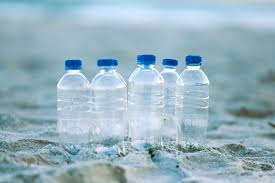Botella: (58, 55, 208, 146)
